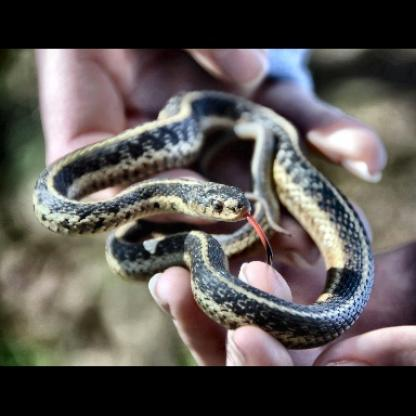Snake: (27, 87, 377, 349)
